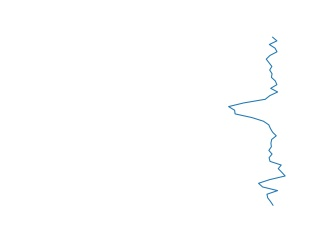interdistributaryEstuary: (221, 37, 288, 208)
